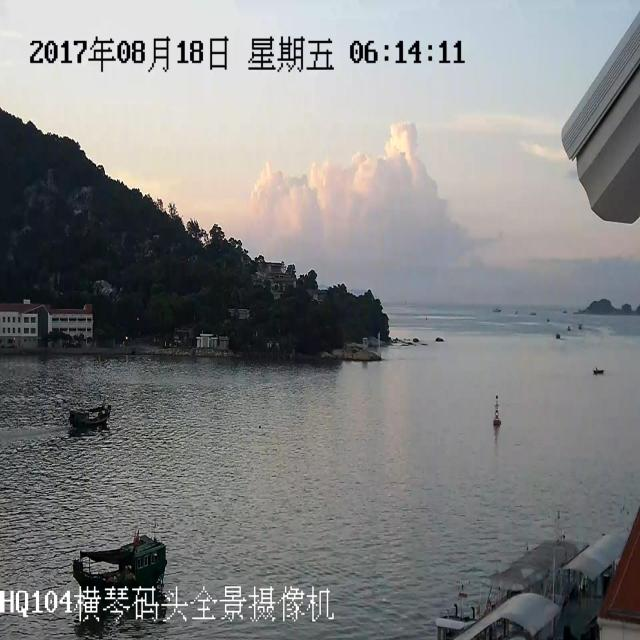buoy: (490, 393, 512, 450)
fishing boat: (54, 507, 182, 611), (70, 393, 137, 453), (592, 365, 620, 414)
